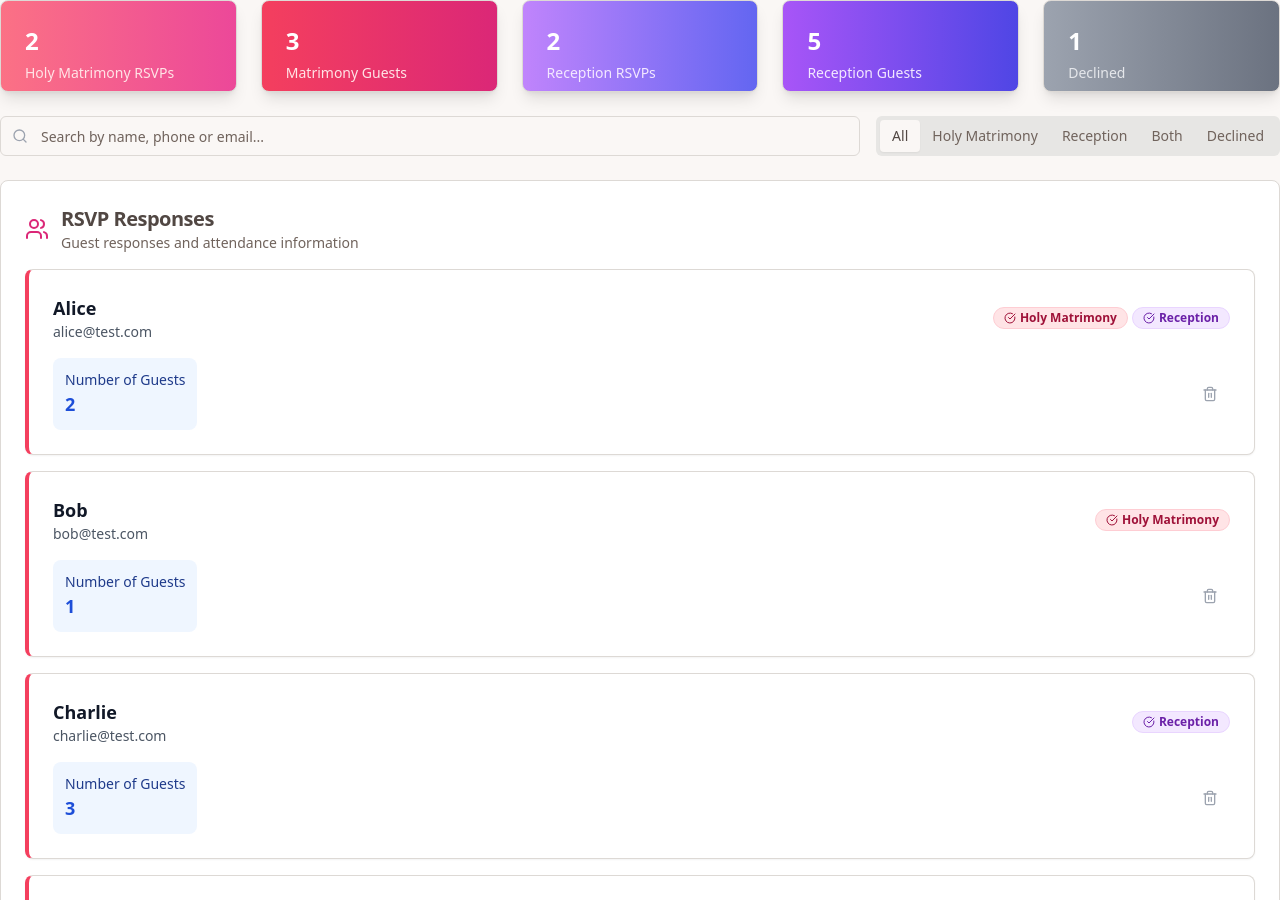
Scenario: RsvpPage › filters by Holy Matrimony tab (includes both)
Click the tab "Holy Matrimony": (985, 136) 920,120 -> 1050,152
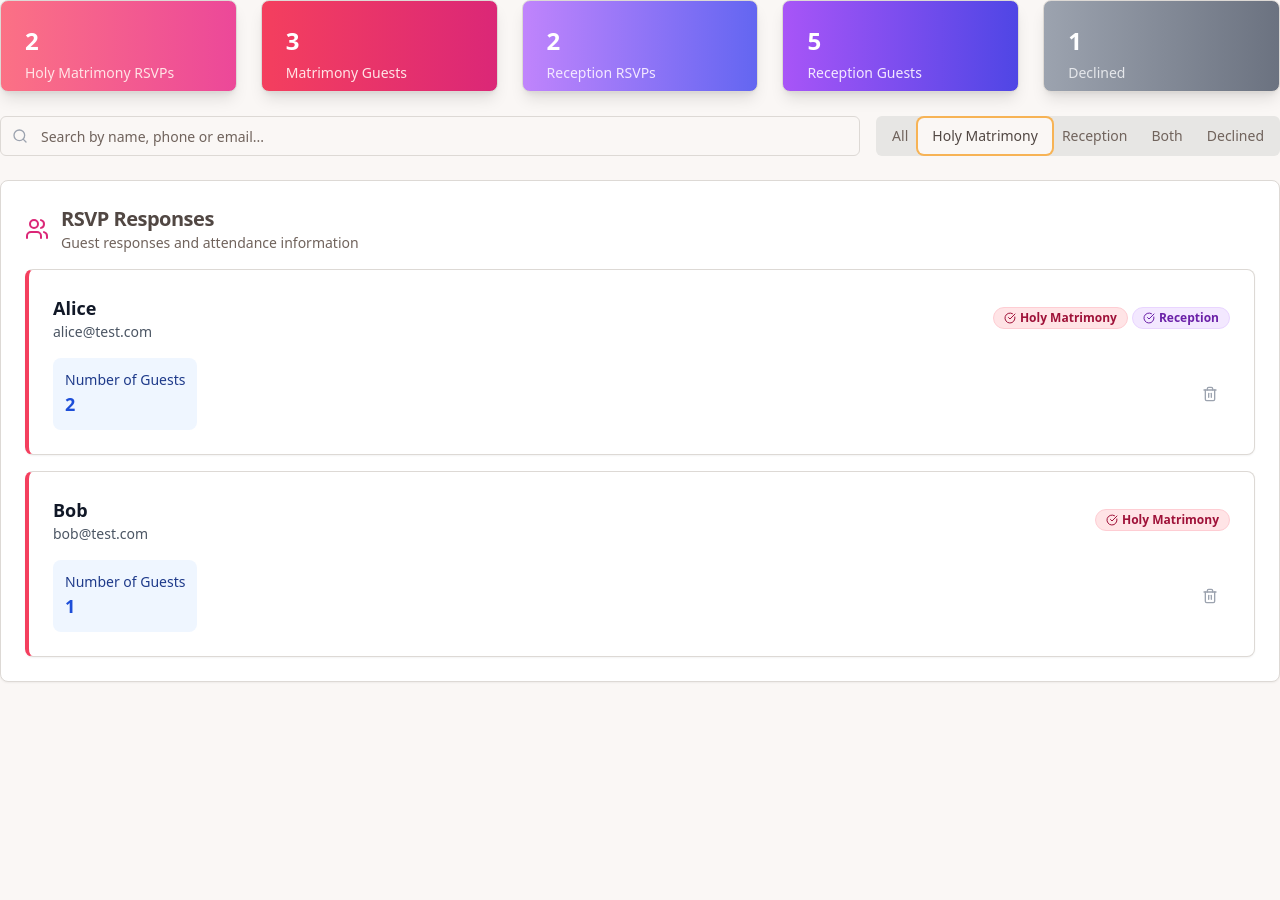
Check: the heading "Alice" is shown, box 53,296 -> 96,320
Check: the heading "Charlie" is gone
